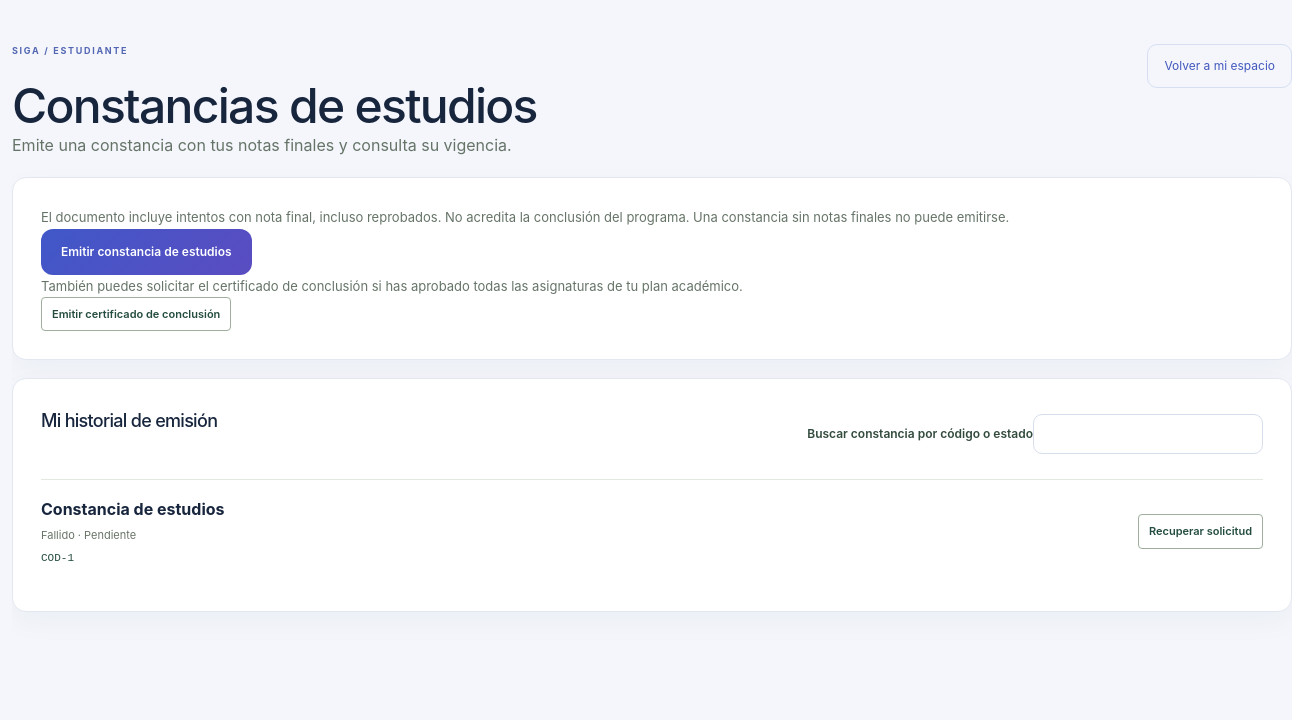
Test: recupera una solicitud fallida y actualiza su historial
The width and height of the screenshot is (1292, 720).
Step 1. Click the button "Recuperar solicitud" → (1200, 532), box [1138,514,1263,549]
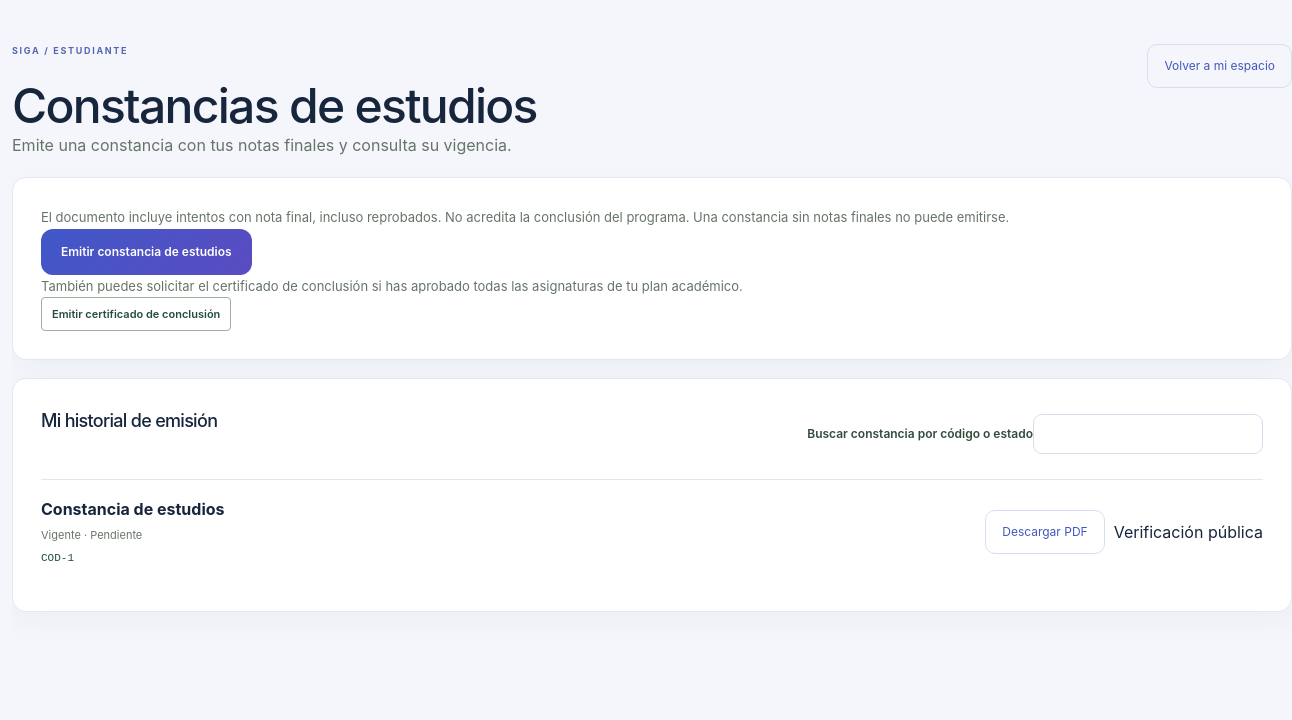
expect the button "Recuperar solicitud" is gone: met
